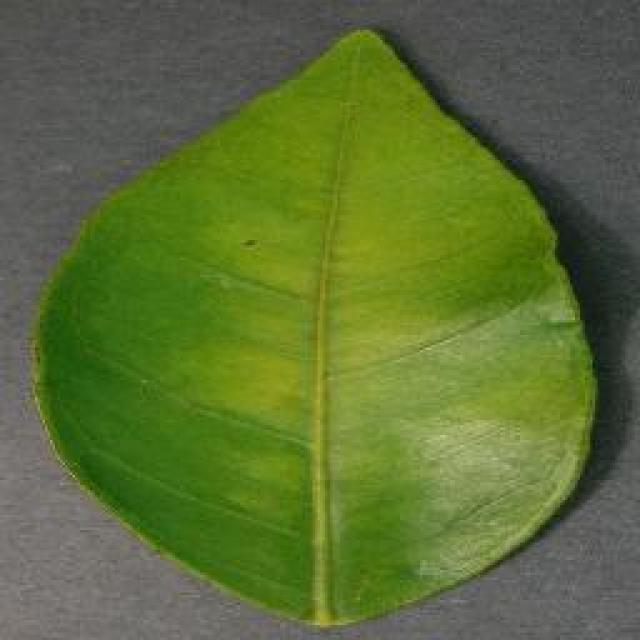Orange_Haunglongbing_Citrus_greening: (108, 128, 566, 580)
